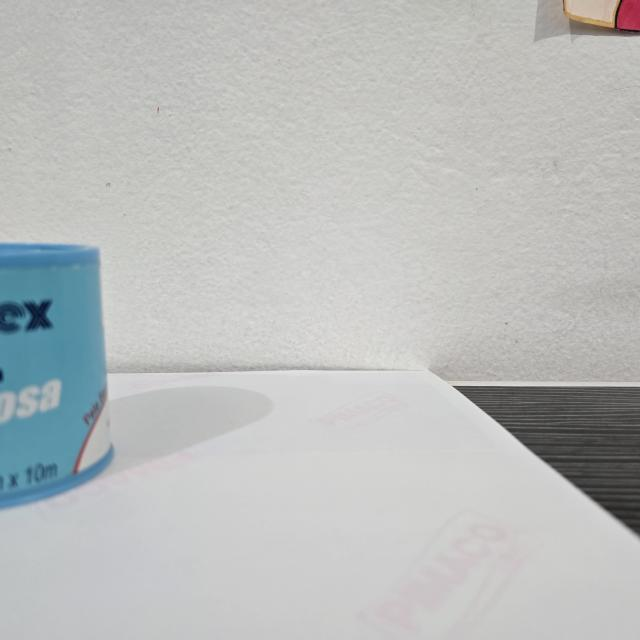procitex: (0, 234, 118, 515)
